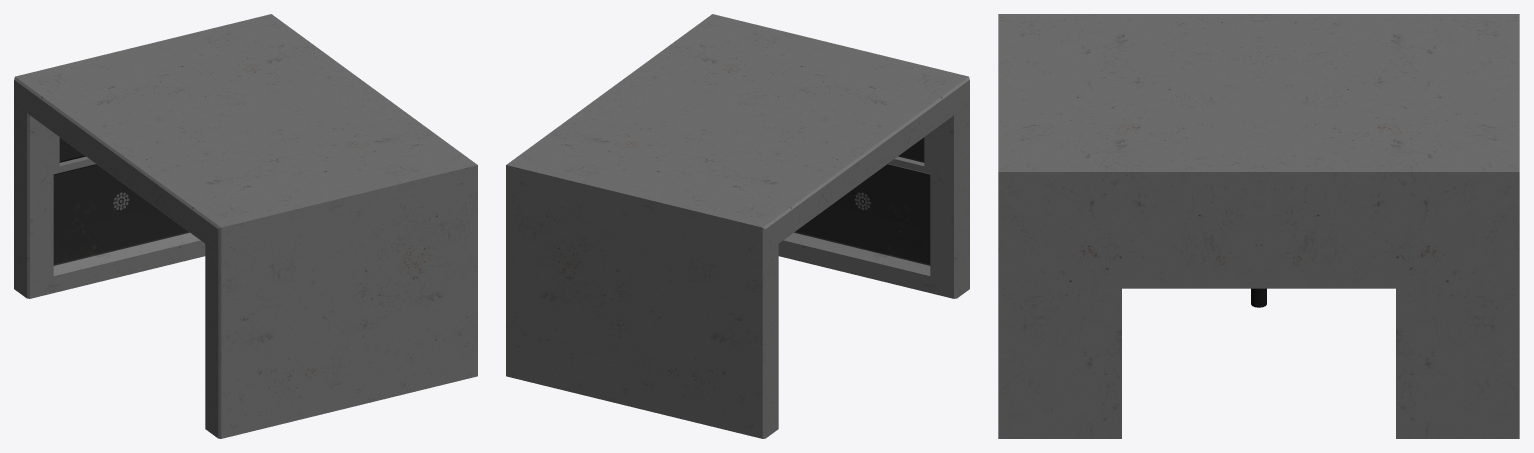
File: Entrance.fbx
3 renders of one model, left to right at view 1: azimuth 30°, elevation 25°; view 2: azimuth 150°, elevation 25°; view 3: azimuth 270°, elevation 25°, orthographic. The views are drawn at different scales.
Visible parts, largest first — view 1: Entrance; view 2: Entrance; view 3: Entrance.
Boxes of the visible parts, <box> form: Entrance: <box>14,14,477,438</box>; Entrance: <box>506,14,969,438</box>; Entrance: <box>998,14,1519,438</box>.
Bounding box in the file's own units: 1362 × 1064 × 1883.
